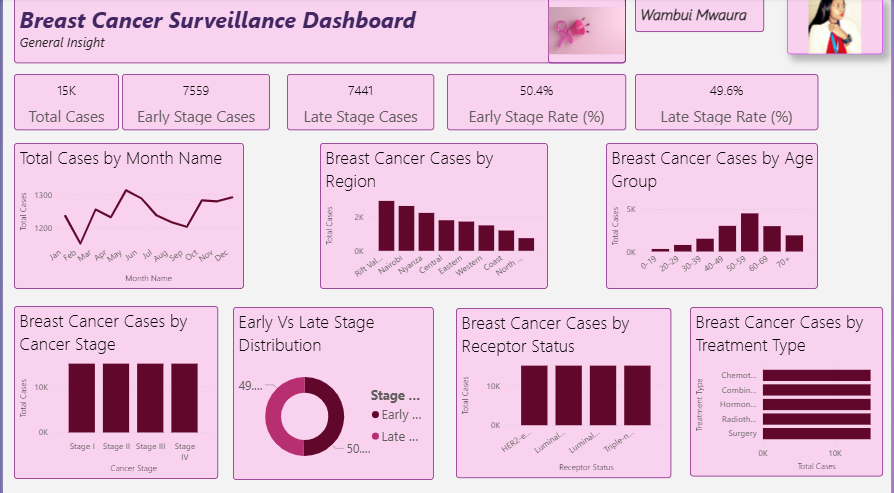

The page's visual inventory and layout, read from the dashboard file:
{"tool":"powerbi","page":{"name":"Overview","canvas":[1280,720],"ordinal":0},"visuals":[{"type":"card","fields":{"Values":["Date Table.Total Cases"]},"box":[15.8,109.4,151.2,80.6],"z":0},{"type":"card","fields":{"Values":["Date Table.Early Stage Cases"]},"box":[171.4,109.4,213.1,80.6],"z":1000},{"type":"card","fields":{"Values":["Date Table.Late Stage Cases"]},"box":[409,109.4,211.7,80.6],"z":2000},{"type":"card","fields":{"Values":["Date Table.Early Stage Rate (%)"]},"box":[639.4,109.4,257.8,80.6],"z":3000},{"type":"card","fields":{"Values":["Date Table.Late Stage Rate (%)"]},"box":[910.1,109.4,263.5,80.6],"z":4000},{"type":"lineChart","fields":{"Category":["Date Table.Month Name"],"Y":["Date Table.Total Cases"]},"box":[15.8,208.8,331.2,210.2],"z":5000},{"type":"clusteredColumnChart","title":"Breast Cancer  Cases by Region","fields":{"Category":["Dim_Geography.Region"],"Y":["Date Table.Total Cases"]},"box":[456.5,208.8,328.3,210.2],"z":6000},{"type":"clusteredColumnChart","title":"Breast Cancer Cases by Age Group","fields":{"Category":["Dim_Patient.Age Group"],"Y":["Date Table.Total Cases"]},"box":[868.3,208.8,305.3,210.2],"z":7000},{"type":"clusteredColumnChart","title":"Breast Cancer Cases by Cancer Stage","fields":{"Y":["Date Table.Total Cases"],"Category":["Dim_Clinical.Cancer Stage"]},"box":[15.8,443.5,293.8,249.1],"z":8000},{"type":"donutChart","title":"Early Vs Late Stage Distribution","fields":{"Y":["Date Table.Total Cases"],"Category":["Fact_BreastCancer.Stage Category"]},"box":[331.2,445,289.4,249.1],"z":9000},{"type":"clusteredColumnChart","title":"Breast Cancer Cases by Receptor Status","fields":{"Category":["Dim_Clinical.Receptor Status"],"Y":["Date Table.Total Cases"]},"box":[652.3,446.4,309.6,244.8],"z":10000},{"type":"clusteredBarChart","title":"Breast Cancer Cases by Treatment Type","fields":{"Y":["Date Table.Total Cases"],"Category":["Dim_Treatment.Treatment Type"]},"box":[989.3,444.9,278,244.4],"z":11000},{"type":"textbox","box":[15.8,0,881.3,93.6],"z":11001},{"type":"image","box":[784.8,0,112.3,93.6],"z":11002},{"type":"textbox","box":[910.1,0,185.8,49],"z":11003},{"type":"image","box":[1129,0,138.2,80.6],"z":11004}]}

Visuals, with their boxes in screenshot pixels (x1, y1, x2, y2), scaled from the page's 1280x720 canvas onto the 894x493 screenshot:
card - Date Table.Total Cases: BBox(11, 75, 117, 130)
card - Date Table.Early Stage Cases: BBox(120, 75, 269, 130)
card - Date Table.Late Stage Cases: BBox(286, 75, 434, 130)
card - Date Table.Early Stage Rate (%): BBox(447, 75, 627, 130)
card - Date Table.Late Stage Rate (%): BBox(636, 75, 820, 130)
lineChart - Date Table.Month Name x Date Table.Total Cases: BBox(11, 143, 242, 287)
"Breast Cancer  Cases by Region" clusteredColumnChart: BBox(319, 143, 548, 287)
"Breast Cancer Cases by Age Group" clusteredColumnChart: BBox(606, 143, 820, 287)
"Breast Cancer Cases by Cancer Stage" clusteredColumnChart: BBox(11, 304, 216, 474)
"Early Vs Late Stage Distribution" donutChart: BBox(231, 305, 433, 475)
"Breast Cancer Cases by Receptor Status" clusteredColumnChart: BBox(456, 306, 672, 473)
"Breast Cancer Cases by Treatment Type" clusteredBarChart: BBox(691, 305, 885, 472)
textbox: BBox(11, 0, 627, 64)
image: BBox(548, 0, 627, 64)
textbox: BBox(636, 0, 765, 34)
image: BBox(789, 0, 885, 55)
